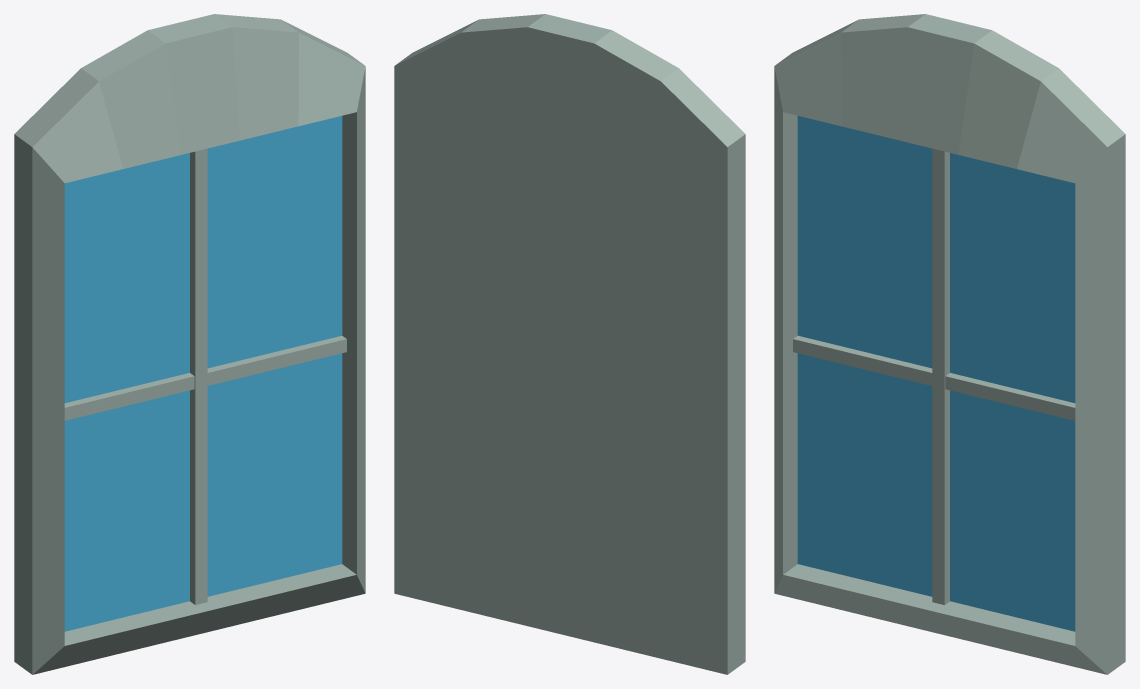
Rendered from Window.fbx.
3 views of the same model, side by side, from view 1: azimuth 30°, elevation 25°; view 2: azimuth 150°, elevation 25°; view 3: azimuth 330°, elevation 25° (orthographic).
Parts seen in each view (by area): view 1: window, decor1, decor2; view 2: window; view 3: window, decor1, decor2.
Part boxes in pixels (x1,y1,x2,y2): window: (14, 14, 365, 674); decor1: (190, 148, 207, 604); decor2: (64, 335, 346, 420); window: (394, 14, 745, 674); window: (774, 14, 1125, 674); decor1: (932, 148, 949, 604); decor2: (793, 335, 1075, 420).
Size of the model in its own units: 99.16 by 170 by 15.37.
